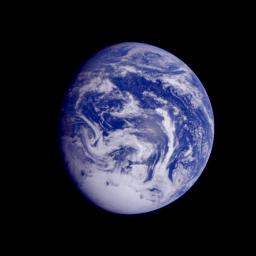planet: (58, 42, 219, 218)
